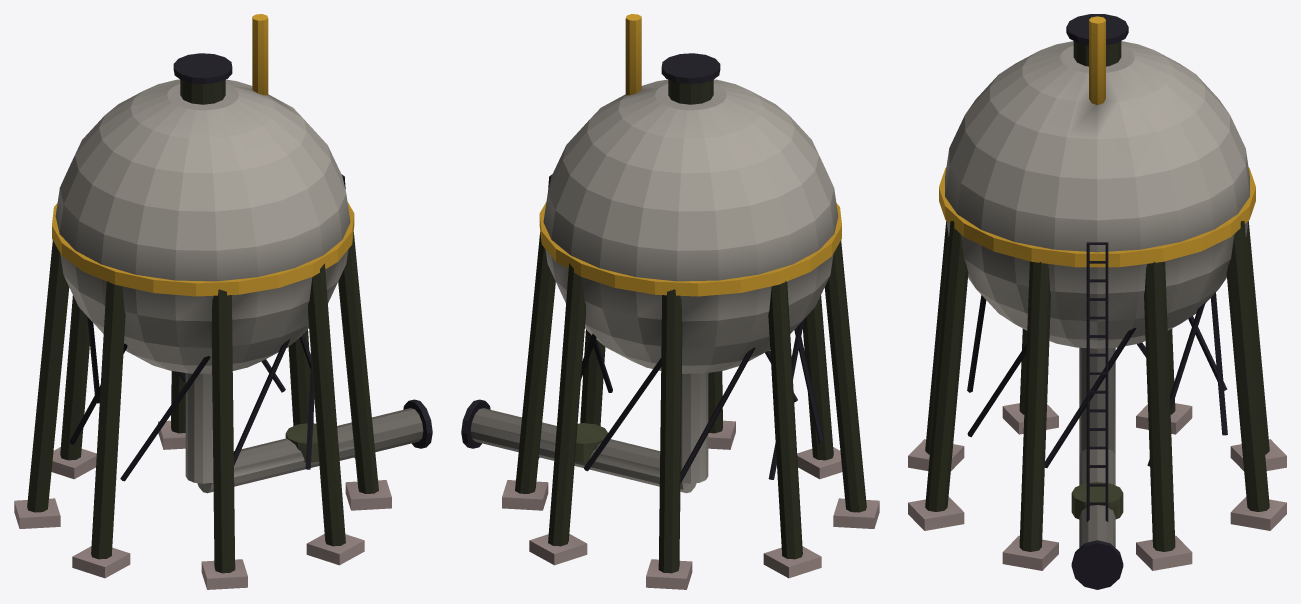
3 renders of one model, left to right at view 1: azimuth 30°, elevation 25°; view 2: azimuth 150°, elevation 25°; view 3: azimuth 270°, elevation 25°, orthographic. The views are drawn at different scales.
Parts seen in each view (by area): view 1: body_pal_picketWhite; view 2: body_pal_picketWhite; view 3: body_pal_picketWhite.
Part boxes in pixels (left/top/right/bottom): body_pal_picketWhite: left=14, top=14, right=432, bottom=589; body_pal_picketWhite: left=461, top=14, right=879, bottom=589; body_pal_picketWhite: left=908, top=14, right=1286, bottom=589.
Size of the model in its own units: 10.47 by 12.8 by 8.79.
